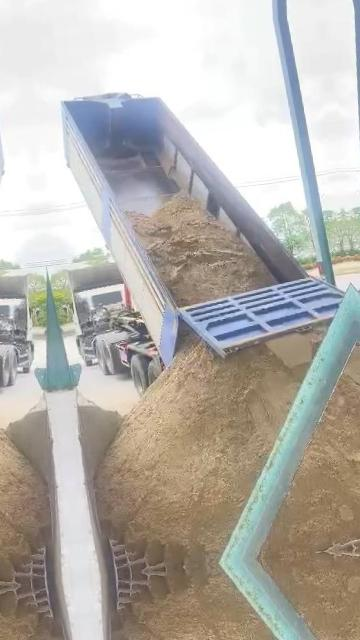sand: (96, 337, 307, 568), (262, 377, 360, 556), (128, 194, 274, 306), (79, 395, 122, 480), (267, 328, 323, 372), (347, 346, 360, 387)
